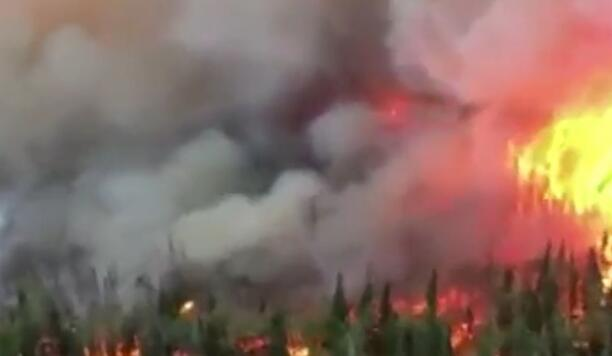fire: (504, 88, 612, 241)
smoke: (2, 5, 589, 306)
